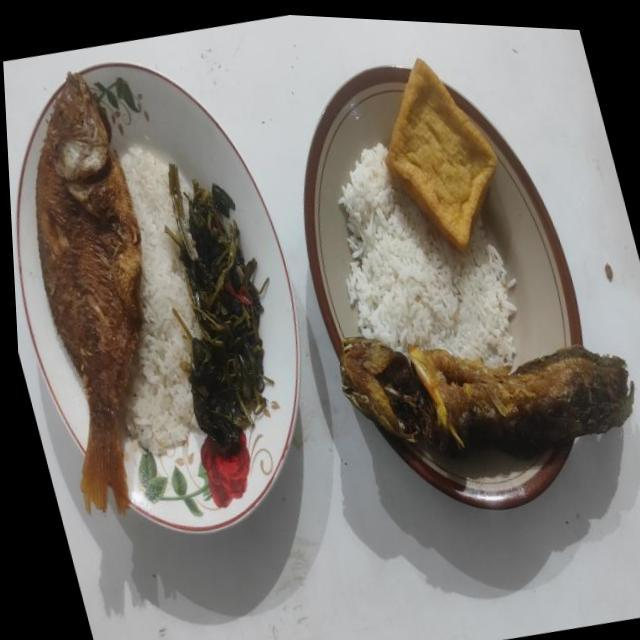ikan_mujair: (35, 72, 141, 512)
nasi_putih: (338, 142, 516, 366), (120, 144, 200, 454)
tahu_goreng: (386, 58, 496, 248)
tumis_kangkung: (165, 164, 272, 451)
